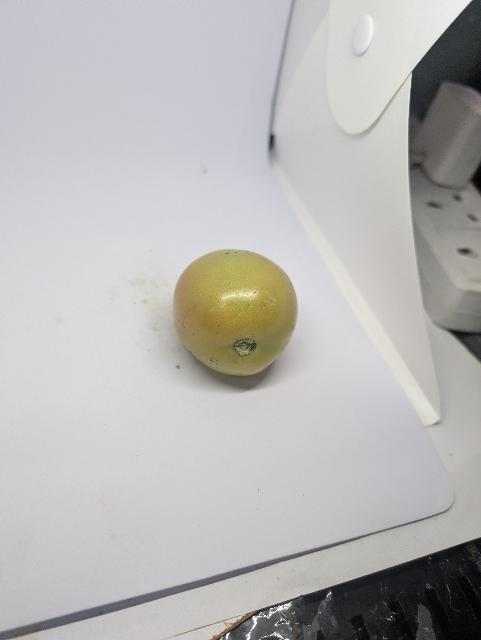breaker: (170, 243, 310, 389)
